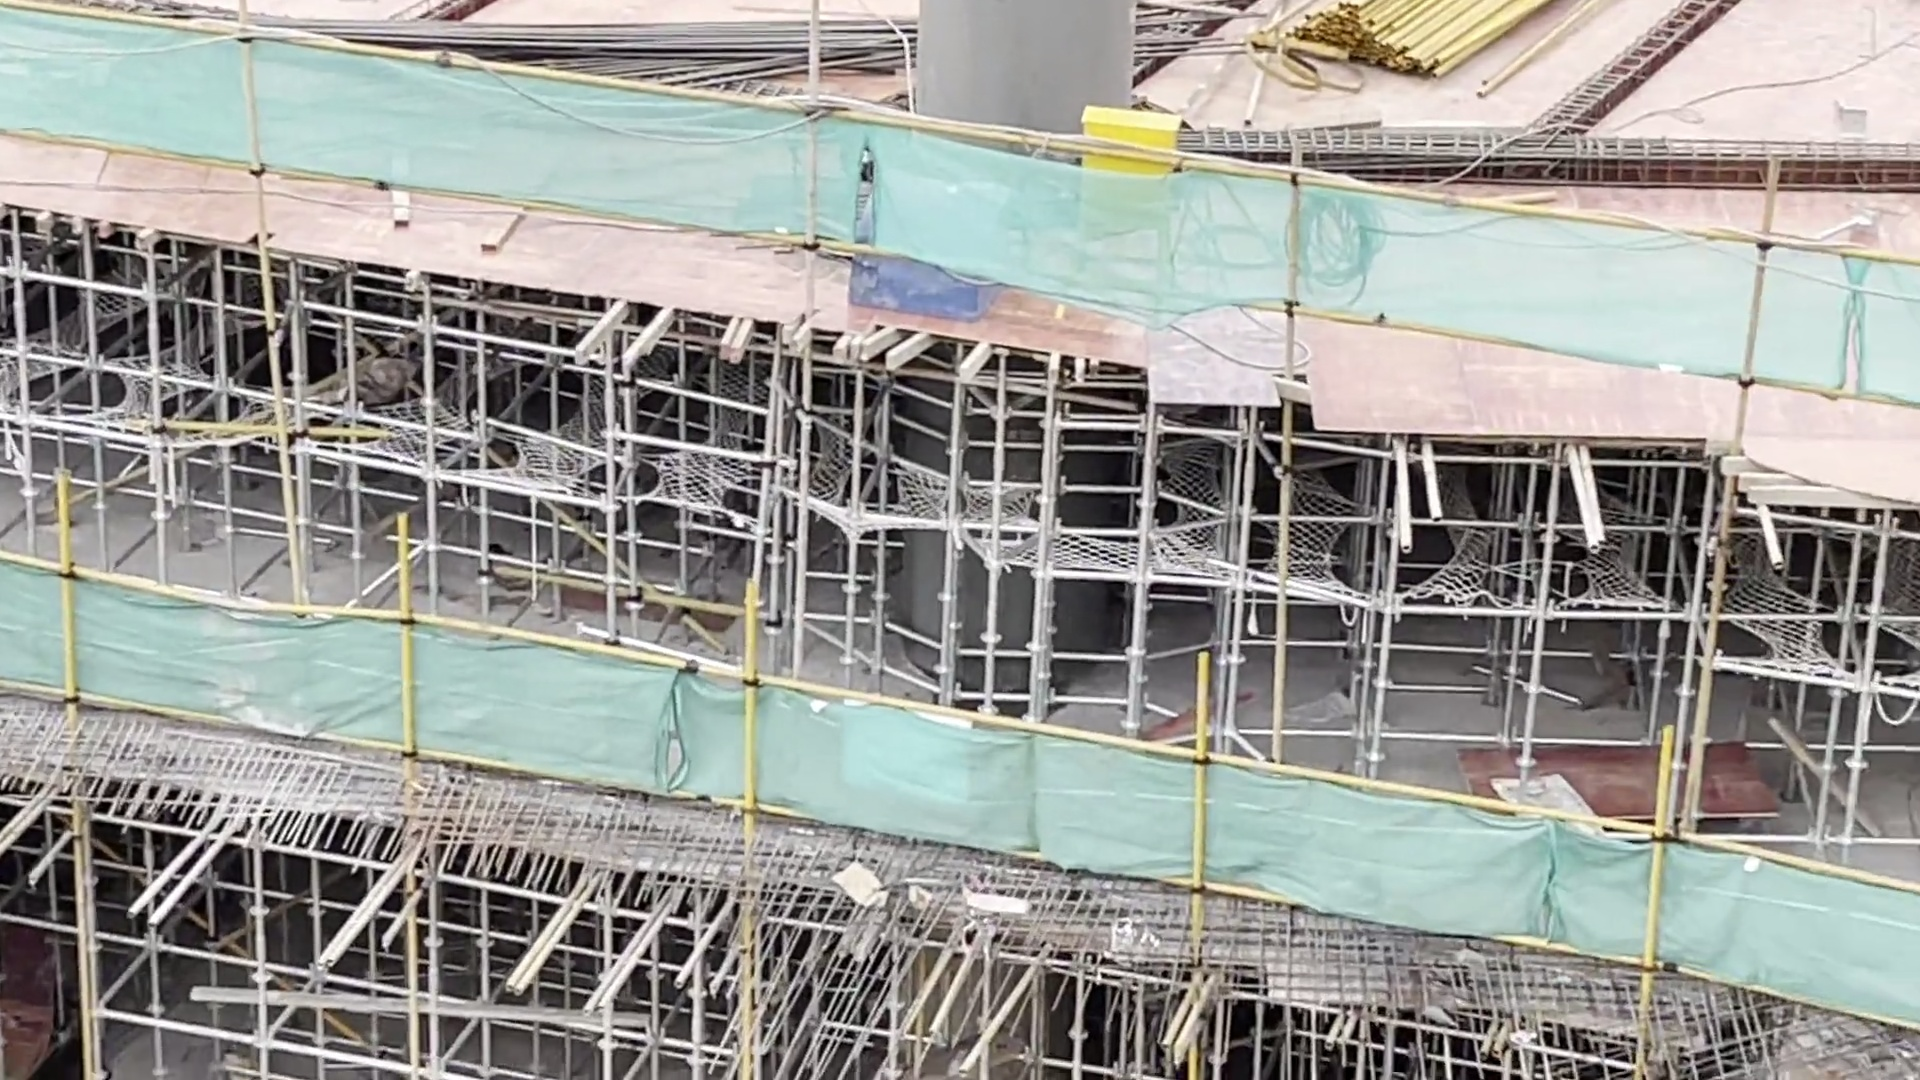ebox: (1077, 105, 1185, 219)
rebar: (245, 5, 1244, 65)
